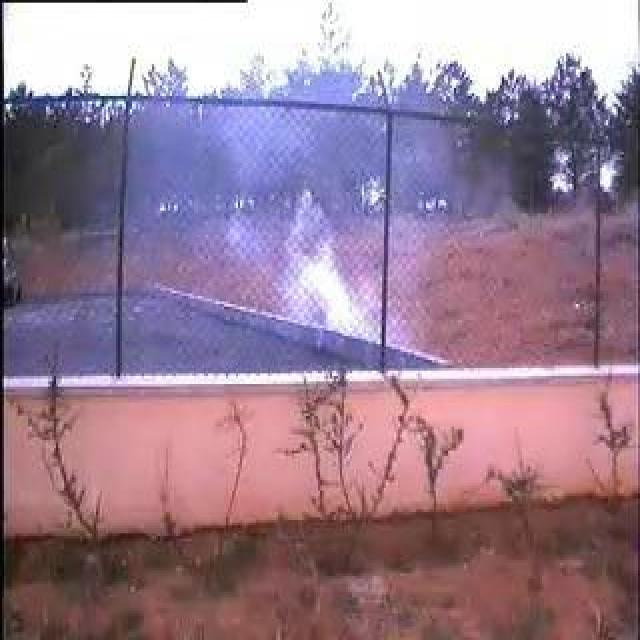Smoke: (200, 121, 412, 340)
